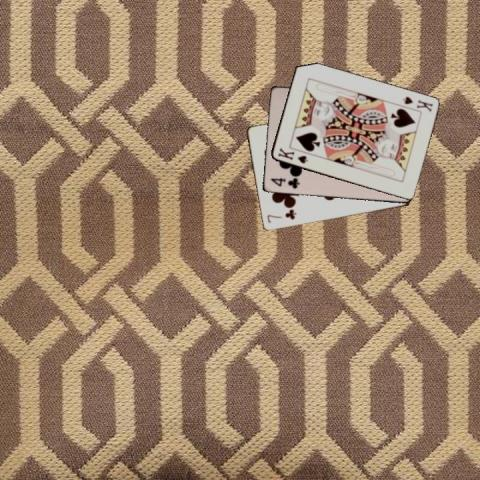4c: (267, 175, 301, 190)
7c: (264, 208, 297, 224)
Ks: (274, 145, 308, 165), (399, 94, 434, 113)
